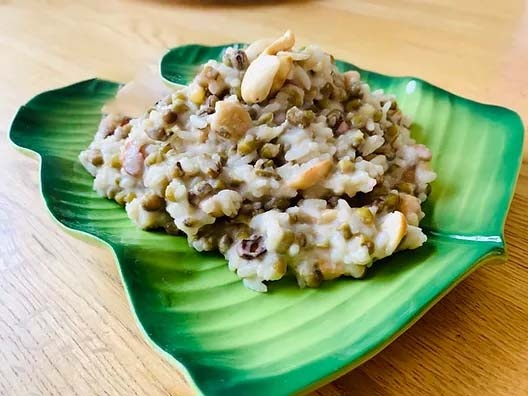kiribath: (85, 27, 431, 289)
